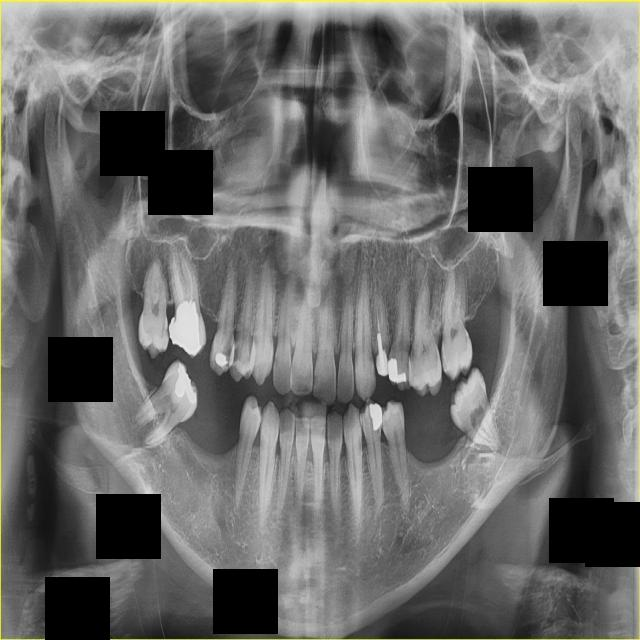71: (376, 332, 385, 370)
74: (182, 256, 196, 301), (170, 262, 183, 304), (173, 255, 184, 302), (375, 306, 380, 331), (382, 312, 383, 322)
NucleOSS Implant: (166, 300, 204, 361), (164, 360, 201, 409), (381, 355, 409, 387), (369, 402, 384, 431), (374, 350, 390, 377), (212, 350, 229, 368)
Sterngold Implant: (222, 335, 236, 368), (230, 345, 243, 369), (162, 319, 169, 347), (463, 328, 472, 346), (273, 352, 280, 373), (381, 416, 389, 432), (371, 363, 377, 382), (434, 351, 441, 366), (314, 372, 318, 392), (441, 349, 446, 364), (270, 352, 274, 365)
